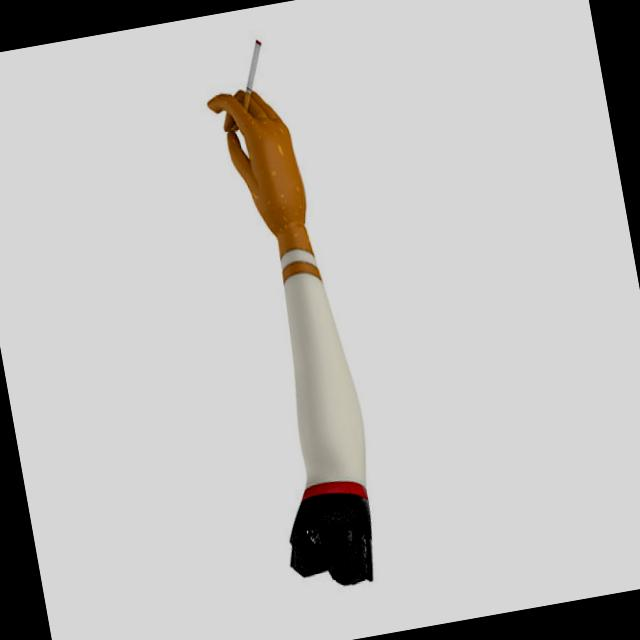cigarette: (222, 29, 278, 129)
